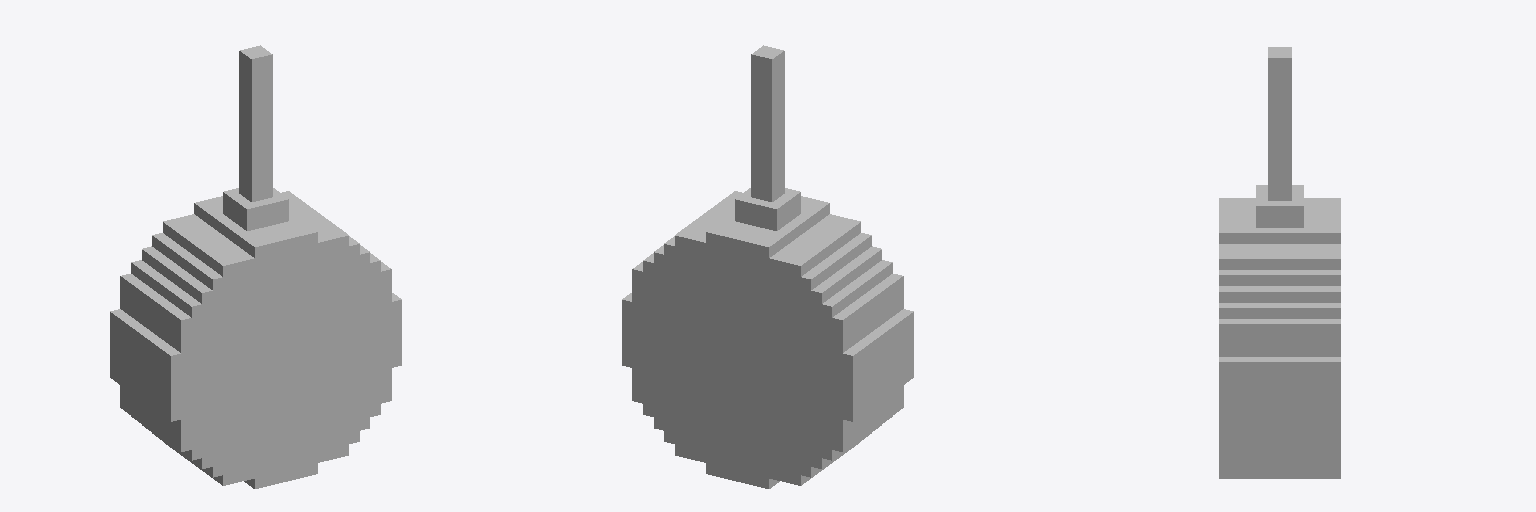
File: Going Down 4.obj
3 views of the same model, side by side, from view 1: azimuth 30°, elevation 25°; view 2: azimuth 150°, elevation 25°; view 3: azimuth 270°, elevation 25° (orthographic).
Bounding box in the file's own units: 22 × 37 × 10.